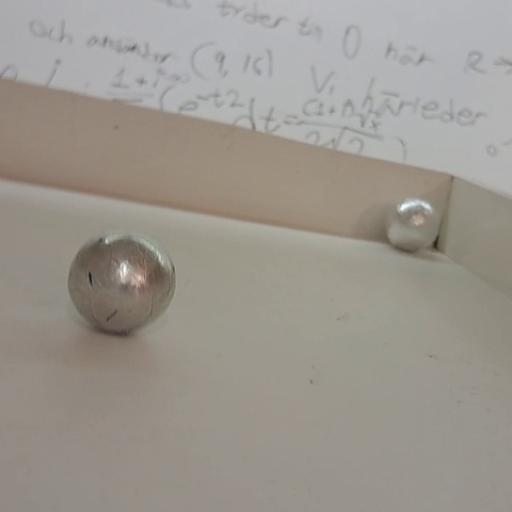alive: (64, 224, 178, 338), (384, 195, 443, 253)
